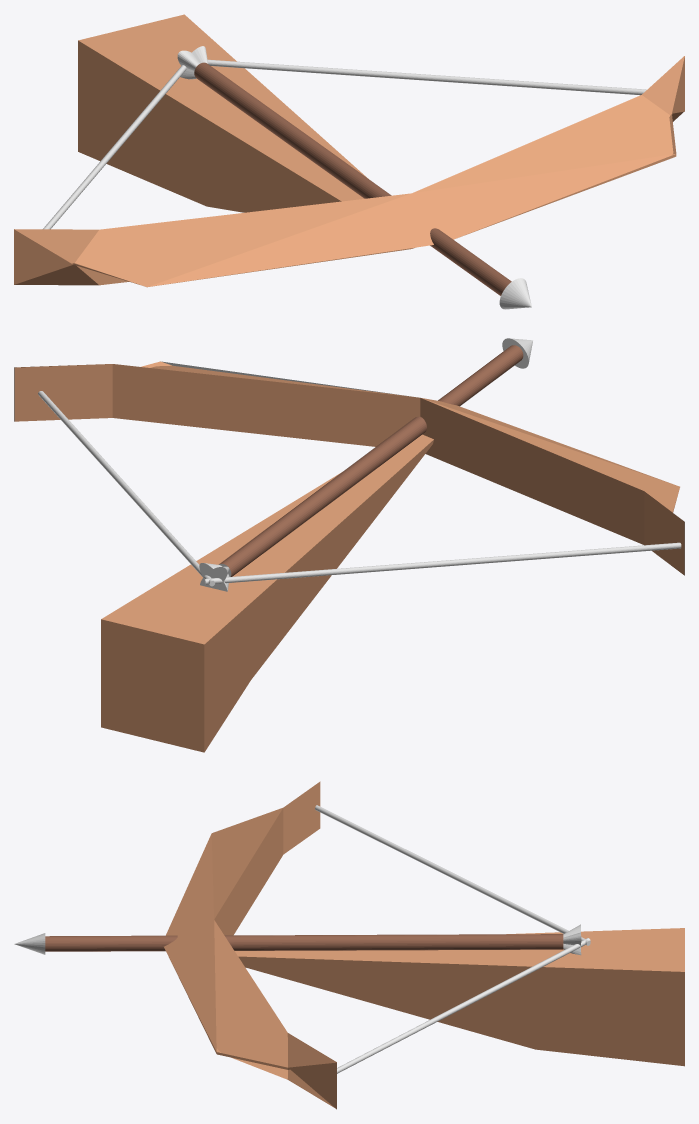
File: Crossbow.fbx
3 renders of one model, top to bottom at view 1: azimuth 30°, elevation 25°; view 2: azimuth 150°, elevation 25°; view 3: azimuth 270°, elevation 25°, orthographic. The views are drawn at different scales.
Visible parts, largest first — view 1: Cube; view 2: Cube; view 3: Cube.
Boxes of the visible parts, x1,y1,x2,y2 form: Cube: (14,14,684,309); Cube: (14,338,684,752); Cube: (14,781,684,1109).
Size of the model in its own units: 128 by 26.64 by 129.
